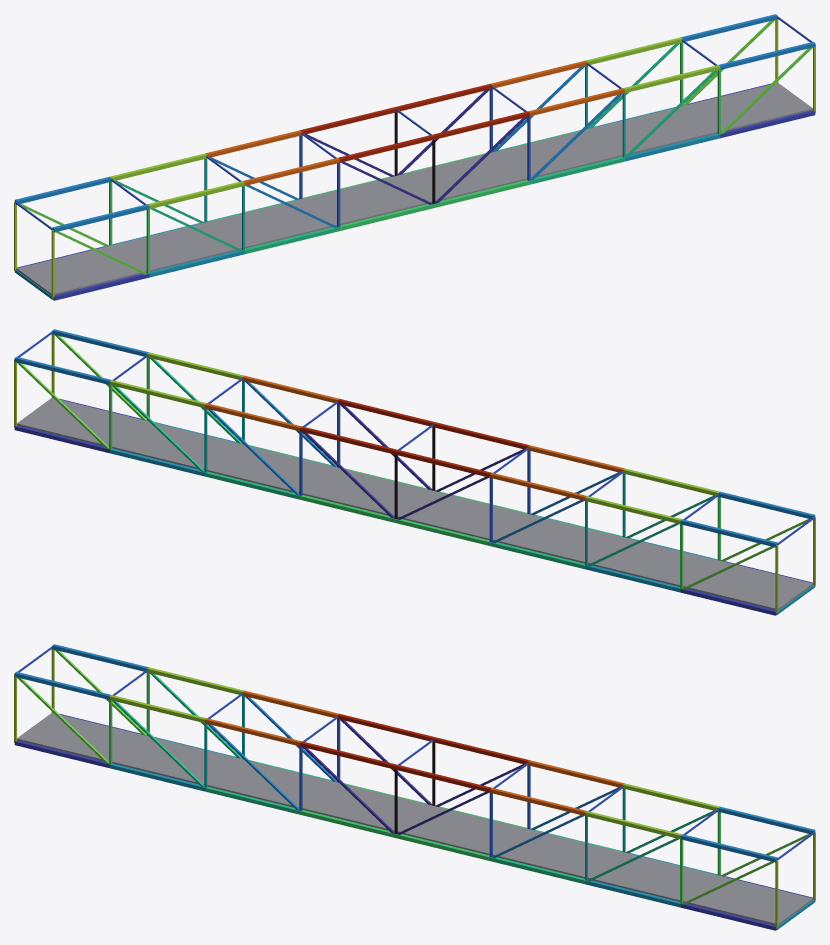
Rendered from 35_3_8_HEA200.glb.
3 renders of one model, top to bottom at view 1: azimuth 30°, elevation 25°; view 2: azimuth 150°, elevation 25°; view 3: azimuth 330°, elevation 25°, orthographic.
Bounding box in the file's own units: 35.09 × 3.16 × 3.16.
